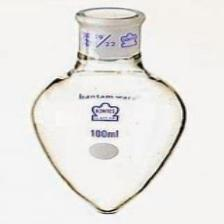Pear shaped flask: (32, 10, 181, 215)
